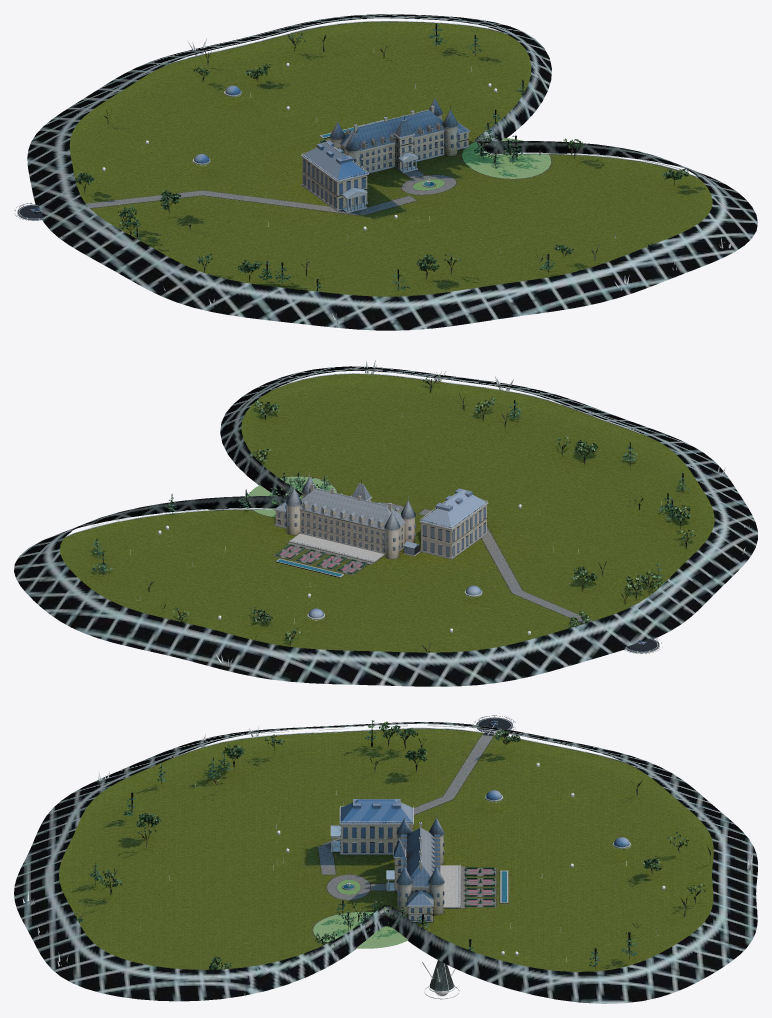
Rendered from rothschild_estate.glb.
The picture shows the model from 3 angles, top to bottom: view 1: azimuth 30°, elevation 25°; view 2: azimuth 150°, elevation 25°; view 3: azimuth 270°, elevation 25°; orthographic projection. The views are drawn at different scales.
Parts seen in each view (by area): view 1: site_ground, props_ward, site_garden, site_trees, walls_ext, roof, windows, props_magitech, props_railings; view 2: site_ground, props_ward, walls_ext, roof, site_trees, site_garden, windows, props_railings, props_magitech; view 3: site_ground, props_ward, site_garden, roof, site_trees, walls_ext, props_magitech, windows, props_railings, props_underside.
Boxes of the visible parts, x1,y1,x2,y2 form: site_ground: [69, 21, 712, 296]; props_ward: [27, 14, 757, 330]; site_garden: [86, 120, 551, 215]; site_trees: [75, 23, 688, 291]; walls_ext: [301, 114, 470, 213]; roof: [302, 98, 469, 197]; windows: [303, 126, 466, 208]; props_magitech: [102, 18, 731, 323]; props_railings: [165, 21, 698, 180]; site_ground: [60, 374, 714, 652]; props_ward: [14, 366, 757, 686]; walls_ext: [274, 492, 488, 562]; roof: [275, 472, 486, 548]; site_trees: [92, 375, 695, 652]; site_garden: [248, 476, 592, 623]; windows: [278, 498, 485, 556]; props_railings: [65, 373, 648, 561]; props_magitech: [70, 360, 751, 665]; site_ground: [59, 728, 713, 971]; props_ward: [14, 722, 757, 1003]; site_garden: [313, 735, 508, 948]; roof: [330, 799, 444, 905]; site_trees: [70, 720, 710, 969]; walls_ext: [331, 807, 460, 921]; props_magitech: [22, 725, 753, 966]; windows: [343, 827, 444, 919]; props_railings: [169, 727, 627, 906]; props_underside: [422, 960, 459, 999].
Size of the model in its own units: 341 by 67.54 by 373.
Materials: 13 (13 with a texture image).
